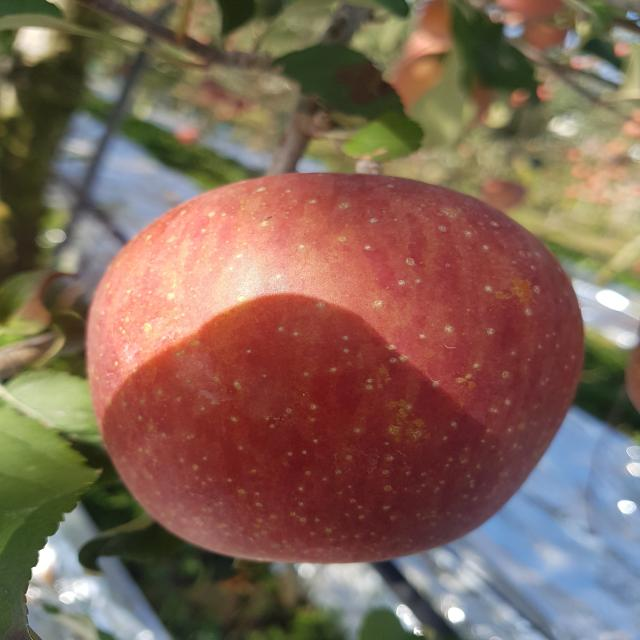fresh: (73, 159, 605, 579)
